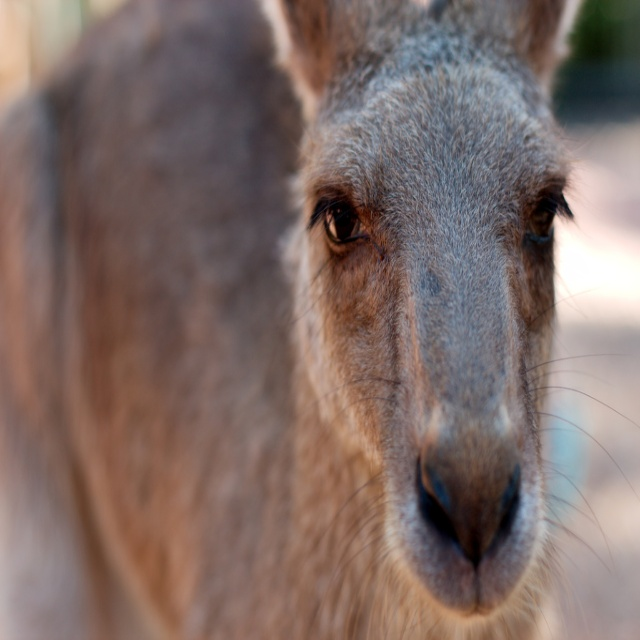Kangaroo: (2, 0, 636, 639)
